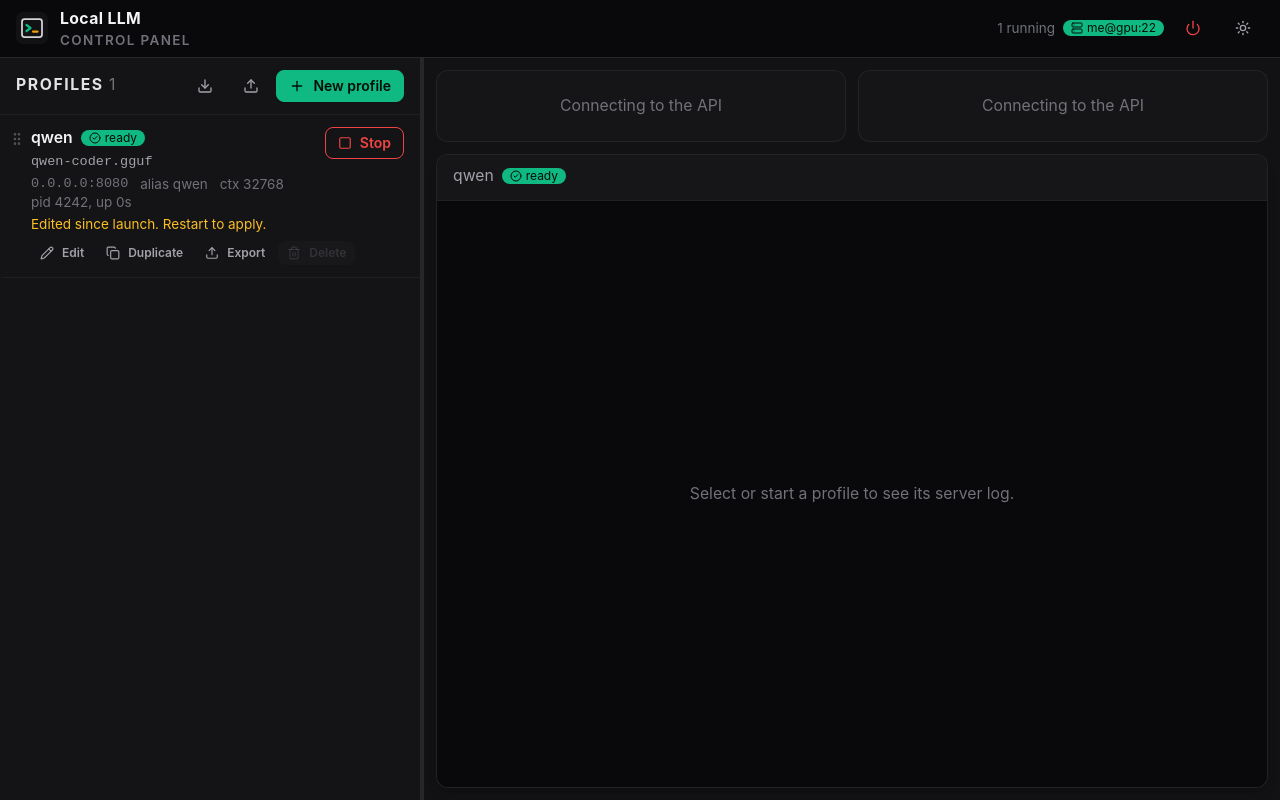
Scenario: App › asks for confirmation before stopping
The width and height of the screenshot is (1280, 800).
Click the button "Stop": [364, 142] box left=325, top=126, right=404, bottom=158
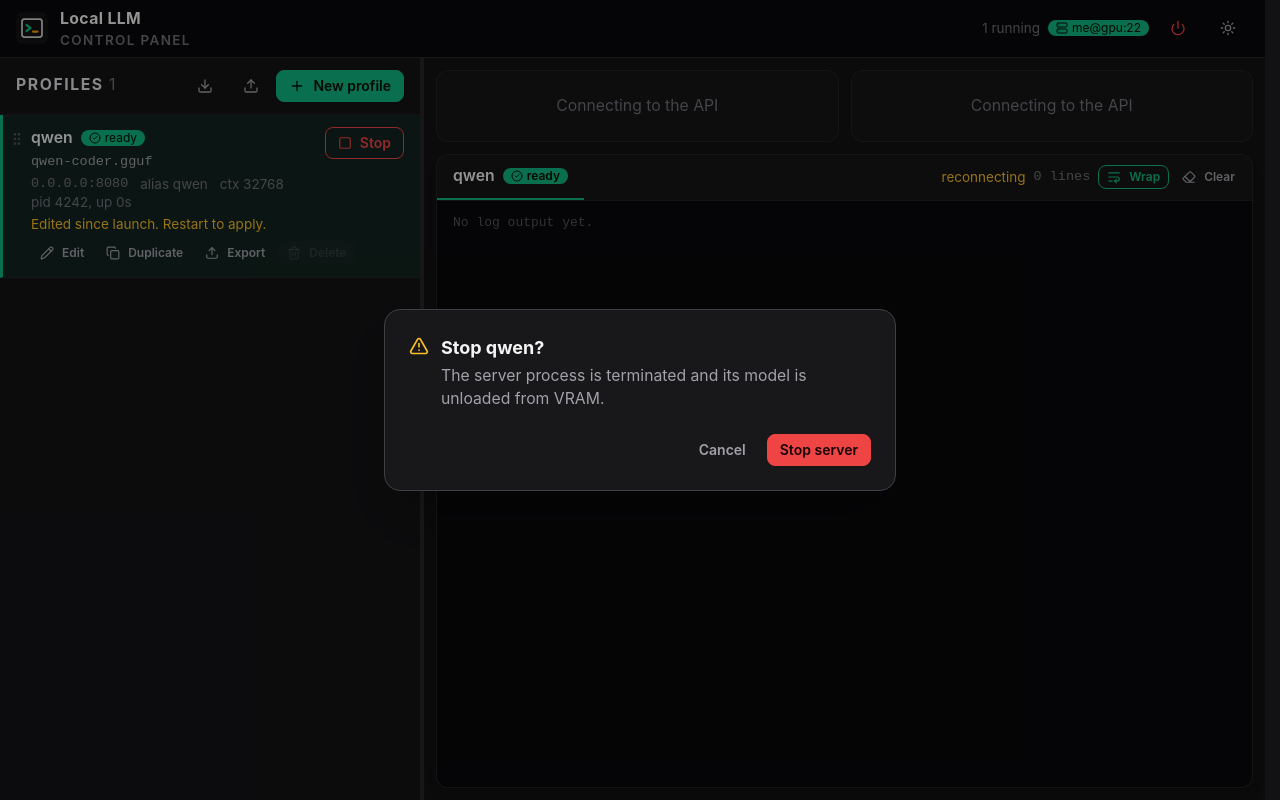
Expected: the text "Edited since launch. Restart to apply." is shown, left=31, top=216, right=266, bottom=232
Click the button "Stop server": [819, 450] box left=767, top=434, right=871, bottom=466
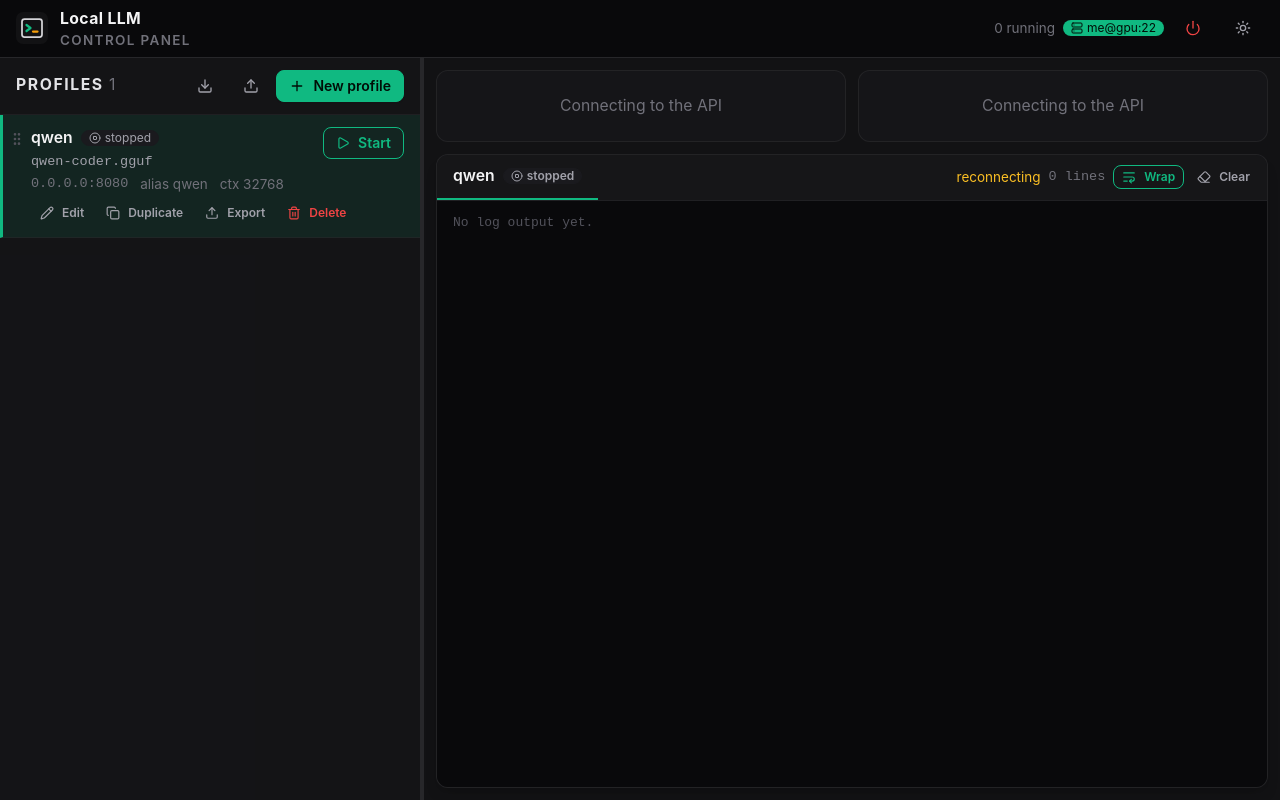
Expected: the button "Start" is shown, left=323, top=126, right=404, bottom=158
